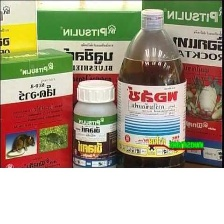book: (31, 3, 155, 167), (134, 0, 223, 172), (0, 45, 77, 202), (0, 0, 53, 131)
insecticide: (114, 7, 189, 189), (70, 77, 121, 179)
